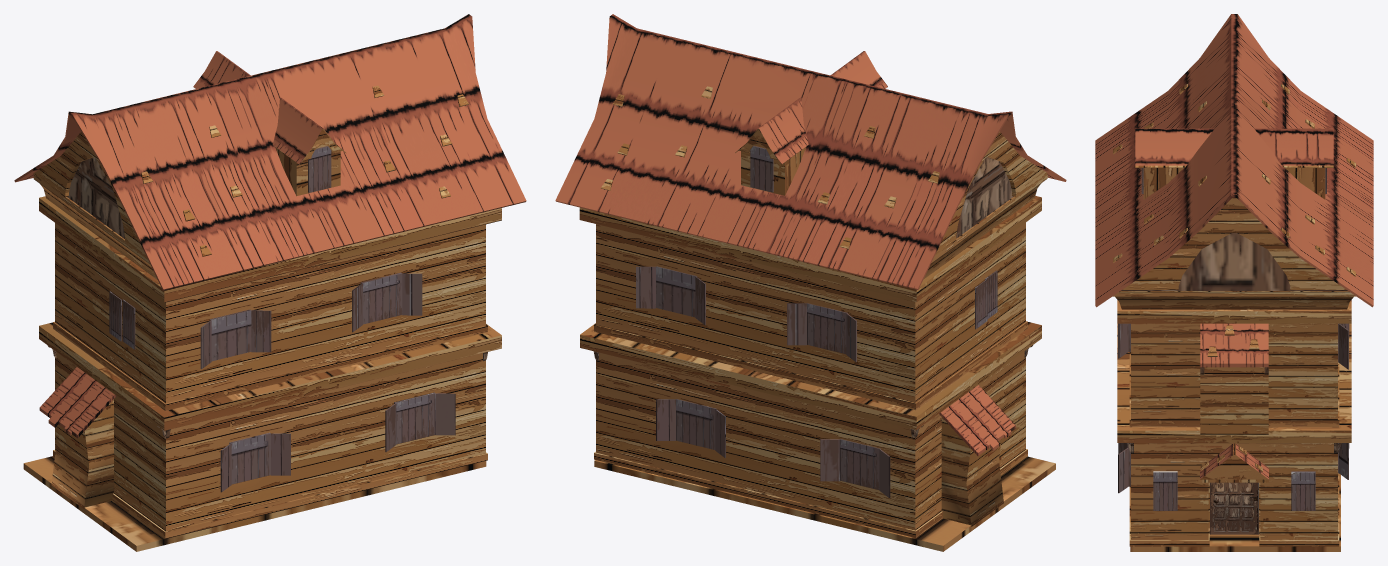
Rendered from Casa_comum 6.fbx.
The picture shows the model from 3 angles, left to right: view 1: azimuth 30°, elevation 25°; view 2: azimuth 150°, elevation 25°; view 3: azimuth 270°, elevation 25°; orthographic projection. The views are drawn at different scales.
Parts seen in each view (by area): view 1: Casa_comum 6, polySurface207, pCube4, pCube112, Plane, polySurface104, polySurface218, polySurface216, polySurface217, polySurface215, polySurface206, polySurface98 (+3 smaller); view 2: Casa_comum 6, polySurface207, pCube4, pCube112, Plane, polySurface104, polySurface215.001, polySurface218.001, polySurface217.001, polySurface216.001, polySurface206, polySurface98 (+3 smaller); view 3: Casa_comum 6, pCube4, polySurface207, pCube108, polySurface104, polySurface94, polySurface95, polySurface93, Plane, pCube5, polySurface140, polySurface223 (+6 smaller).
Boxes of the visible parts, <box> form: Casa_comum 6: <box>14,14,526,290</box>; polySurface207: <box>39,196,501,410</box>; pCube4: <box>39,322,501,538</box>; pCube112: <box>39,367,116,508</box>; Plane: <box>23,456,486,551</box>; polySurface104: <box>193,51,346,196</box>; polySurface218: <box>200,309,271,369</box>; polySurface216: <box>220,432,290,492</box>; polySurface217: <box>352,272,422,332</box>; polySurface215: <box>385,392,455,451</box>; polySurface206: <box>67,157,124,238</box>; polySurface98: <box>33,132,146,256</box>; Casa_comum 6: <box>555,14,1066,289</box>; polySurface207: <box>579,196,1041,410</box>; pCube4: <box>580,322,1041,537</box>; pCube112: <box>939,385,1015,526</box>; Plane: <box>594,456,1055,551</box>; polySurface104: <box>735,51,887,195</box>; polySurface215.001: <box>820,439,890,497</box>; polySurface218.001: <box>636,266,705,325</box>; polySurface217.001: <box>787,303,856,361</box>; polySurface216.001: <box>656,399,725,457</box>; polySurface206: <box>956,157,1013,238</box>; polySurface98: <box>935,131,1047,255</box>; Casa_comum 6: <box>1095,14,1373,307</box>; pCube4: <box>1117,323,1351,546</box>; polySurface207: <box>1117,300,1351,427</box>; pCube108: <box>1200,323,1268,434</box>; polySurface104: <box>1135,128,1333,199</box>; polySurface94: <box>1122,198,1346,289</box>; polySurface95: <box>1121,233,1347,290</box>; polySurface93: <box>1112,291,1356,309</box>; Plane: <box>1130,474,1340,551</box>; pCube5: <box>1200,443,1268,482</box>; polySurface140: <box>1291,471,1315,510</box>; polySurface223: <box>1153,471,1177,510</box>.
Size of the model in its own units: 127 by 120 by 80.73.
